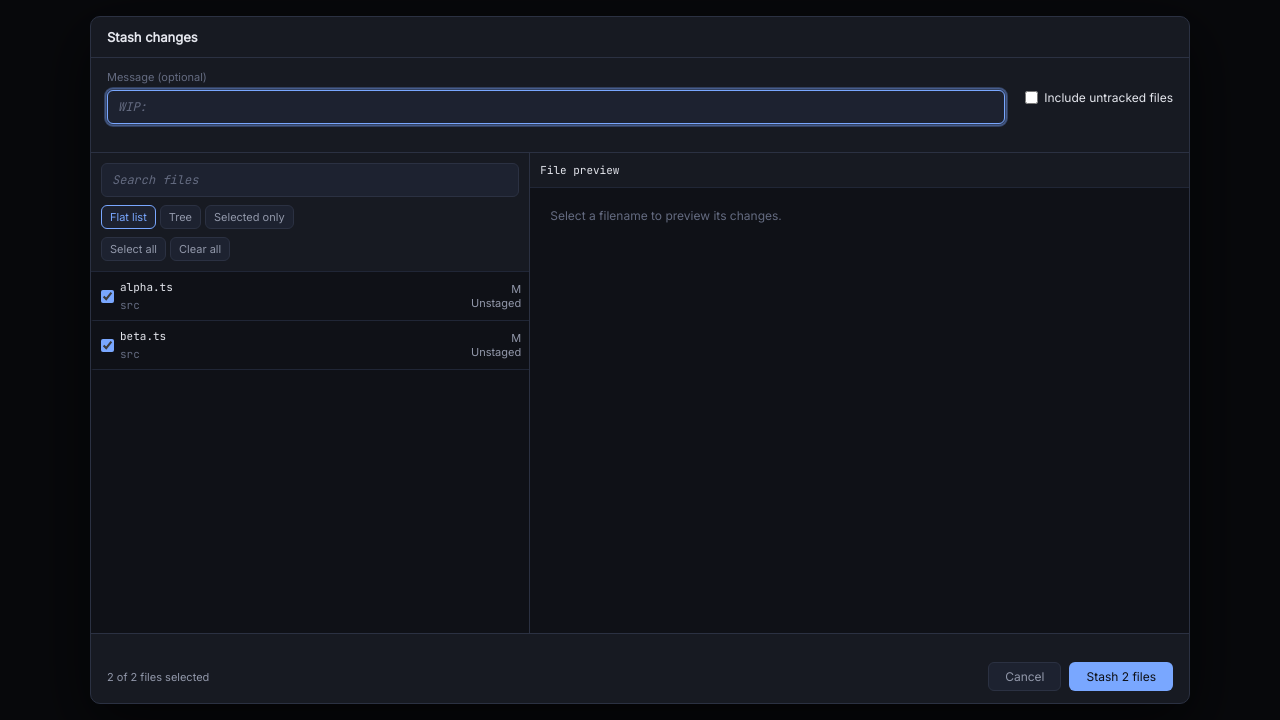
Test: StashPushDialog › retries a failed preview when the file is selected again
Expected: the text "2 of 2 files selected" is shown, [107,670,209,684]
Click the button with aria-label "src/alpha.ts" at (146, 287), box [120,276,465,316]
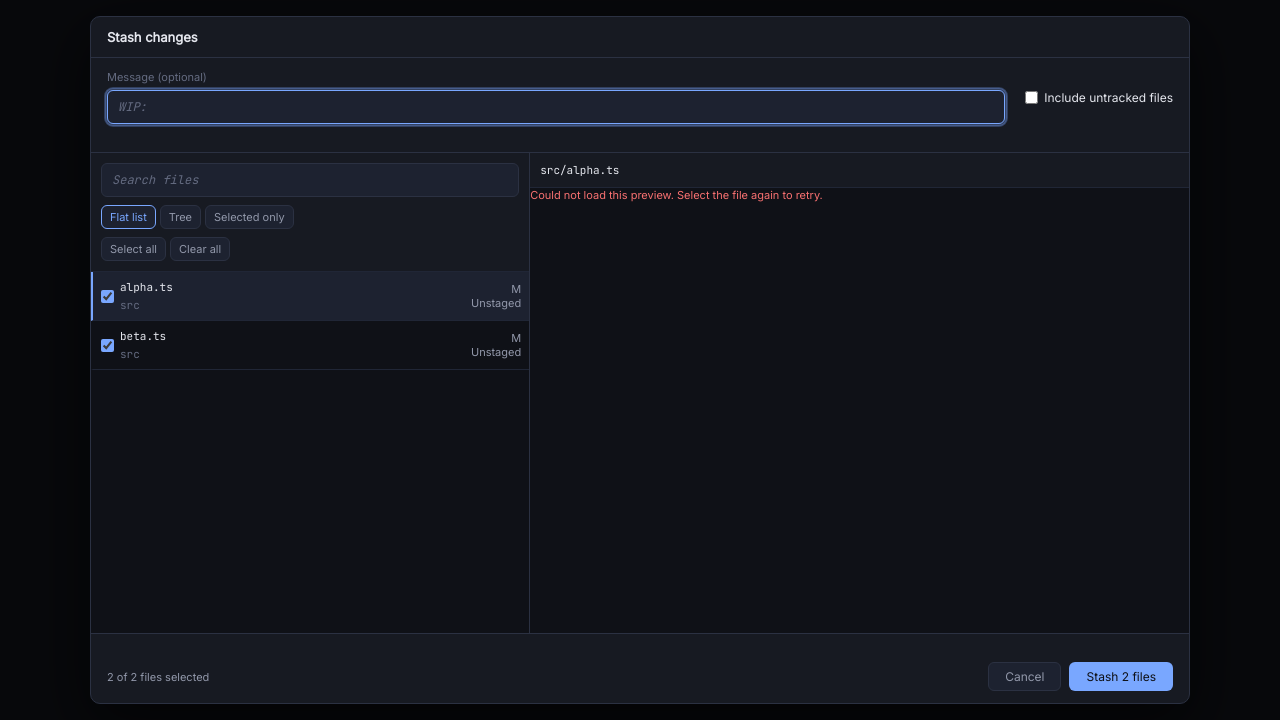
Now the message shows "Could not load this preview", box [530,188,823,202]
Click the button with aria-label "src/alpha.ts" at (146, 287), box [120,276,465,316]
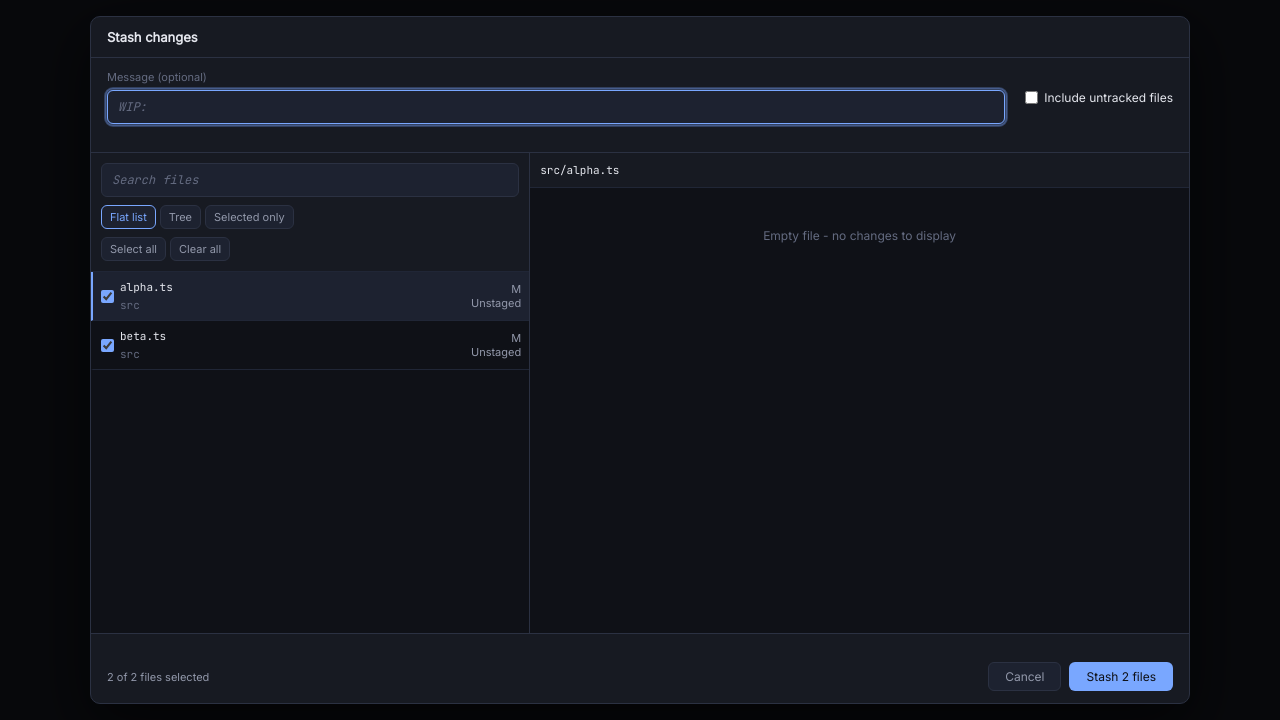
Now the text "Could not load this preview" is gone
